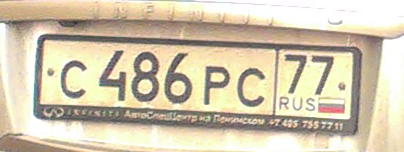character: (162, 49, 196, 107), (97, 44, 129, 104), (130, 49, 162, 105), (237, 60, 268, 111), (57, 58, 90, 101), (203, 62, 231, 112), (310, 53, 337, 97), (285, 51, 306, 96)
